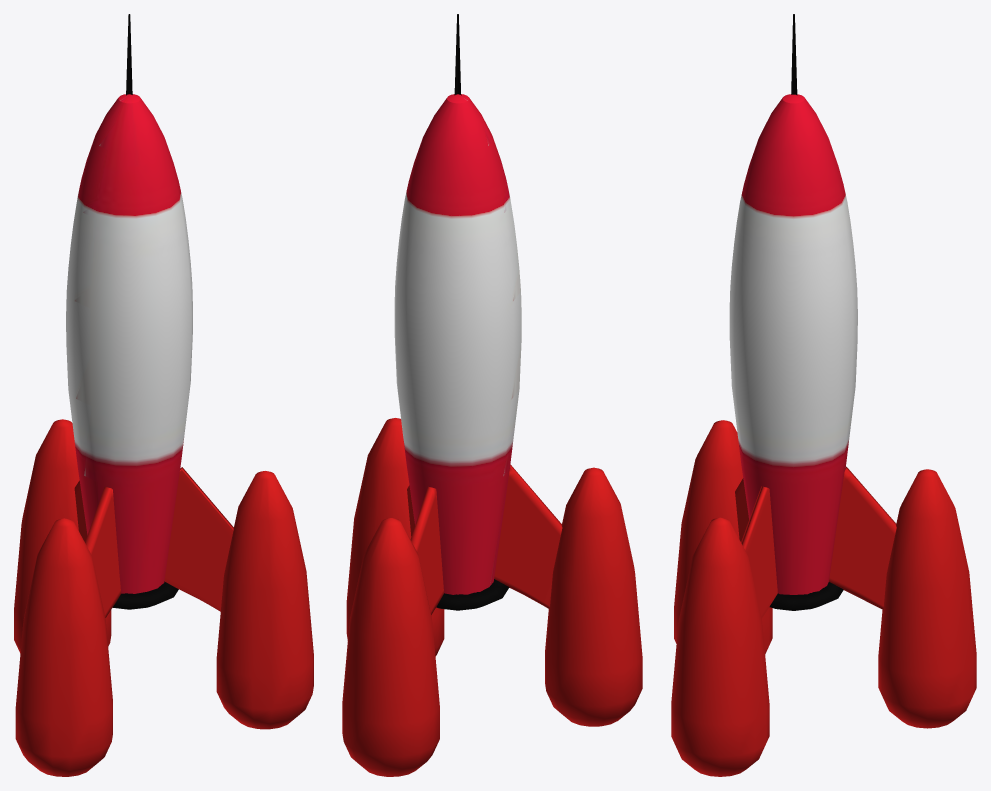
Rendered from shoot_rocket.glb.
The picture shows the model from 3 angles, left to right: view 1: azimuth 30°, elevation 25°; view 2: azimuth 150°, elevation 25°; view 3: azimuth 270°, elevation 25°; orthographic projection.
Visible parts, largest first — view 1: Object_2, Object_7, Object_3, Object_5, Object_4, Object_8, Object_10; view 2: Object_2, Object_5, Object_7, Object_3, Object_8, Object_6, Object_10; view 3: Object_2, Object_3, Object_5, Object_7, Object_6, Object_4, Object_10, Object_8.
Boxes of the visible parts, bbox=[...] form: Object_2: bbox=[66, 94, 192, 593]; Object_7: bbox=[15, 518, 112, 776]; Object_3: bbox=[216, 471, 313, 729]; Object_5: bbox=[14, 419, 111, 653]; Object_4: bbox=[164, 467, 233, 611]; Object_8: bbox=[85, 487, 121, 617]; Object_10: bbox=[112, 581, 178, 609]; Object_2: bbox=[394, 94, 521, 594]; Object_5: bbox=[342, 518, 439, 776]; Object_7: bbox=[545, 467, 642, 726]; Object_3: bbox=[346, 418, 444, 656]; Object_8: bbox=[494, 464, 562, 609]; Object_6: bbox=[410, 486, 443, 614]; Object_10: bbox=[436, 579, 509, 610]; Object_2: bbox=[729, 94, 857, 594]; Object_3: bbox=[671, 517, 769, 776]; Object_5: bbox=[878, 469, 976, 728]; Object_7: bbox=[674, 420, 772, 654]; Object_6: bbox=[829, 466, 896, 609]; Object_4: bbox=[741, 486, 777, 618]; Object_10: bbox=[769, 582, 843, 610]; Object_8: bbox=[735, 478, 748, 541].
Size of the model in its own units: 4.98 by 11.86 by 4.63.
10 materials, 1 textured.
